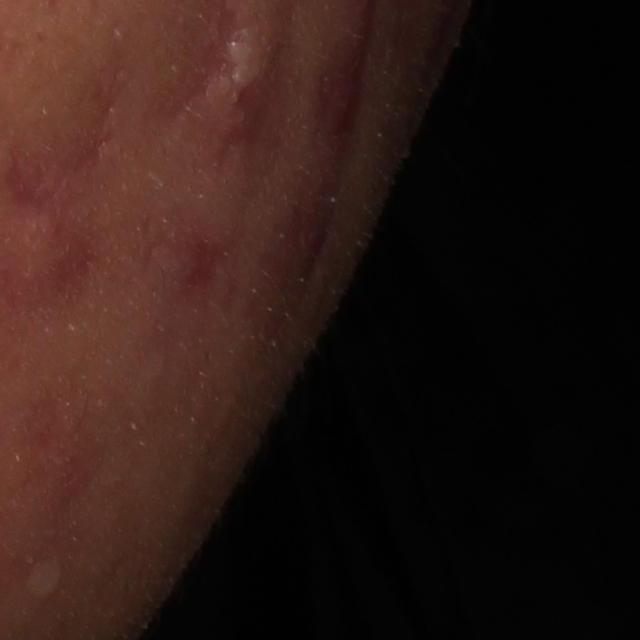atrophic_scar: (214, 44, 305, 191), (178, 234, 233, 297)
hypertrophic_scar: (205, 25, 270, 118)
other: (20, 552, 69, 607)
